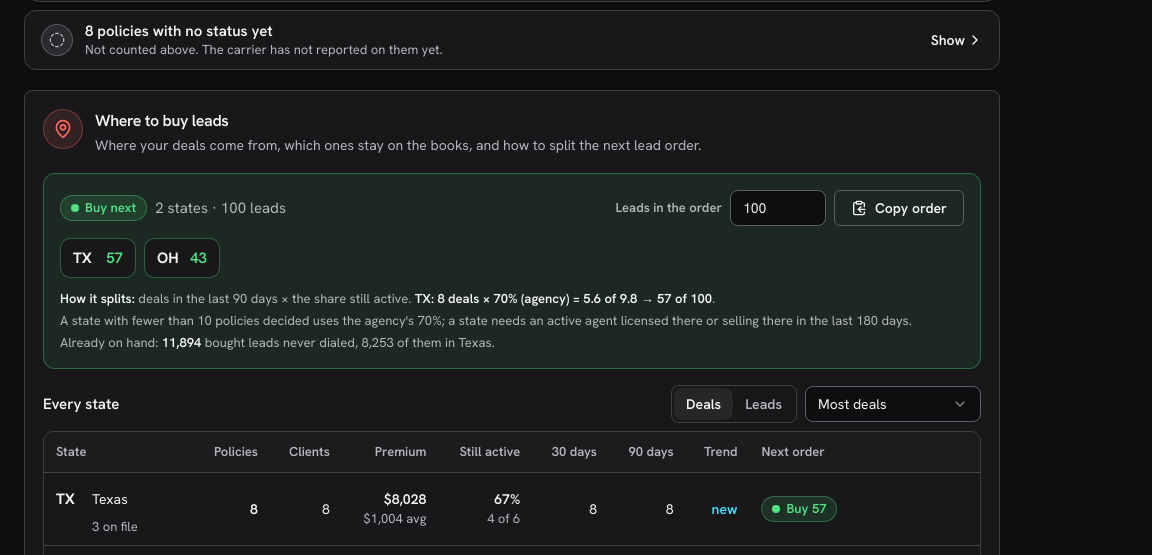
Test: Where to buy leads › shows the full-book reader the states to buy, and Copy order puts the plain list on the clipboard
The width and height of the screenshot is (1152, 555).
(page scrolled)
Expected: the buttons read "TX57", "OH43", in this order, [60,238,136,278]; [144,238,220,278]
Click the button "Copy order" at (899,208), box [834,190,964,226]
(page scrolled)
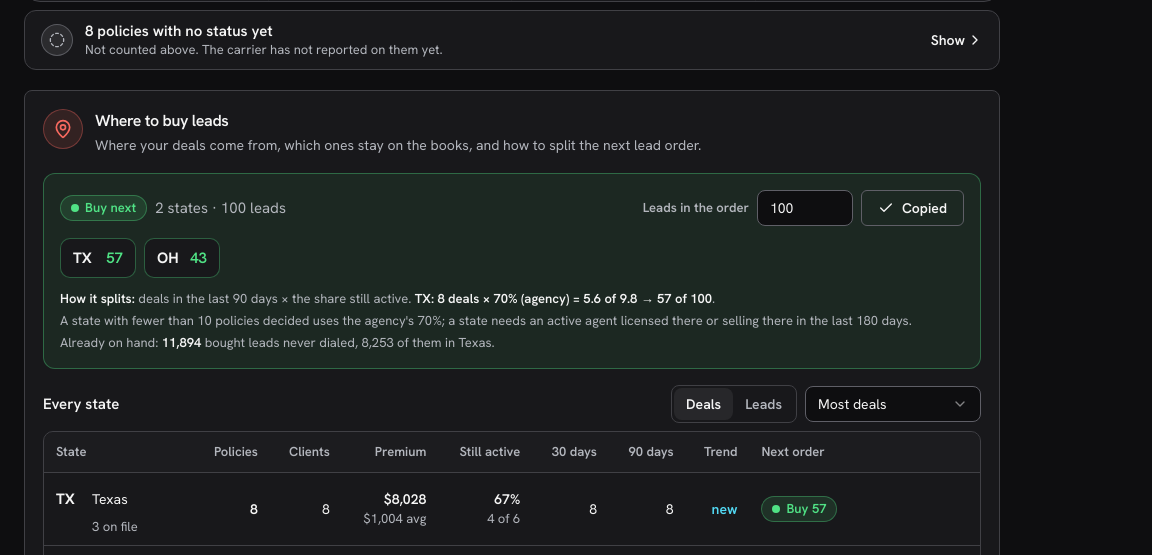
Expected: the text "TX: 8 deals × 70% (agency) = 5.6 of 9.8 → 57 of 100" is shown, [415,290,712,307]
Now the button "Copied" is shown, box [861,190,964,226]
